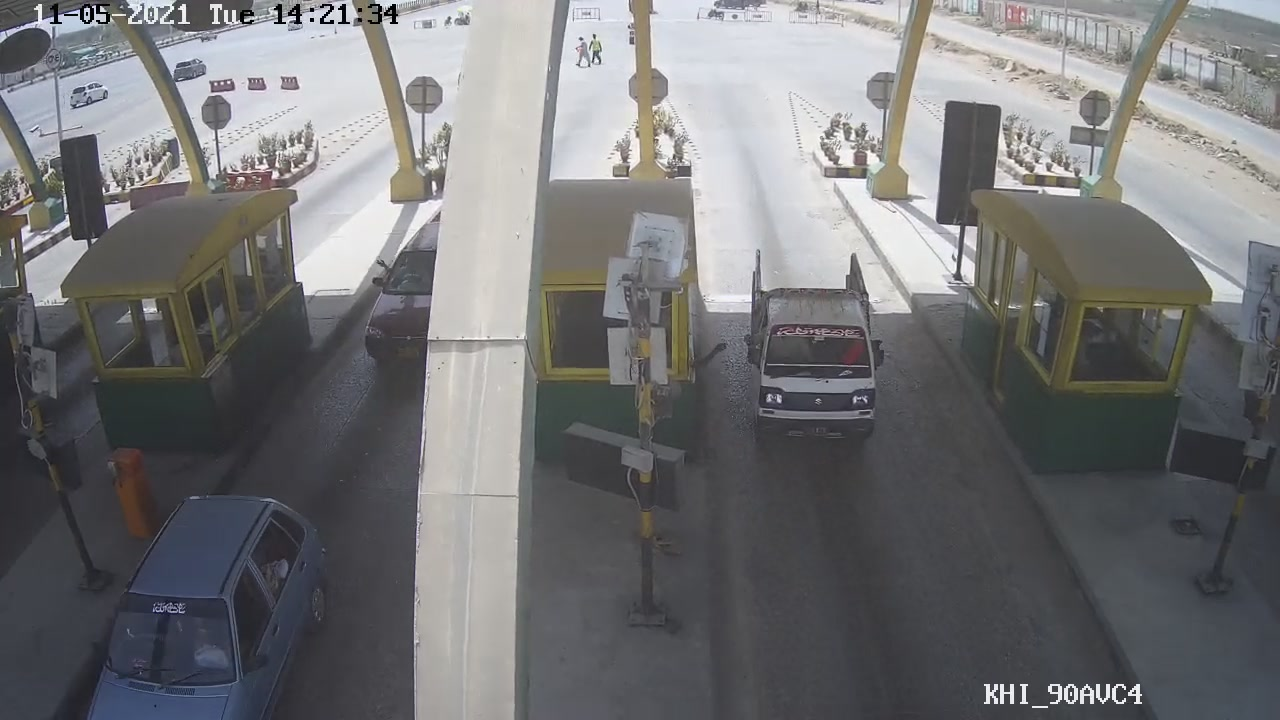F1: (740, 243, 887, 457)
